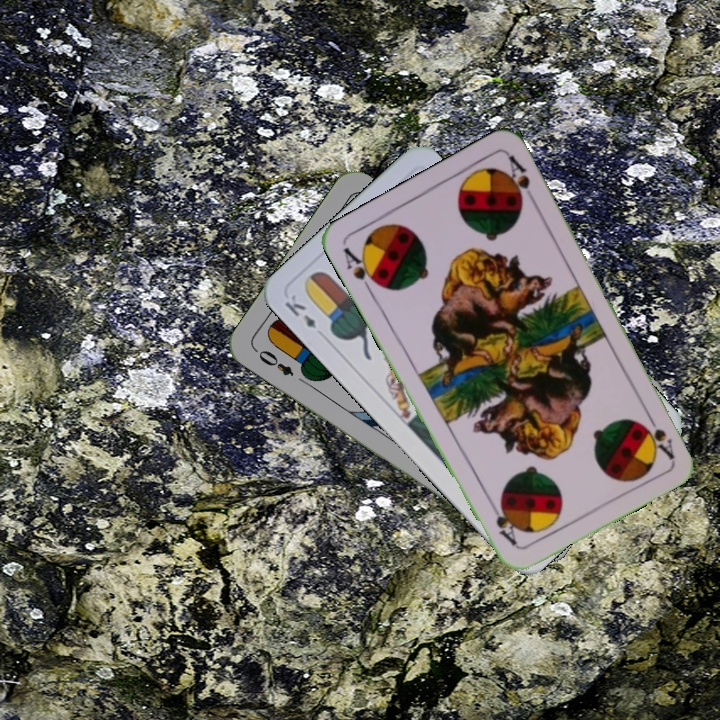EK: (281, 290, 319, 332)
EO: (250, 345, 297, 379)
SA: (339, 242, 384, 297), (641, 406, 676, 461)
